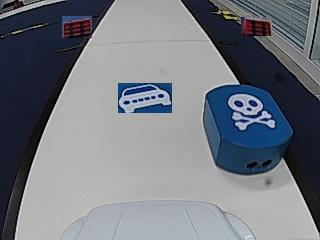danger: (230, 96, 272, 130)
